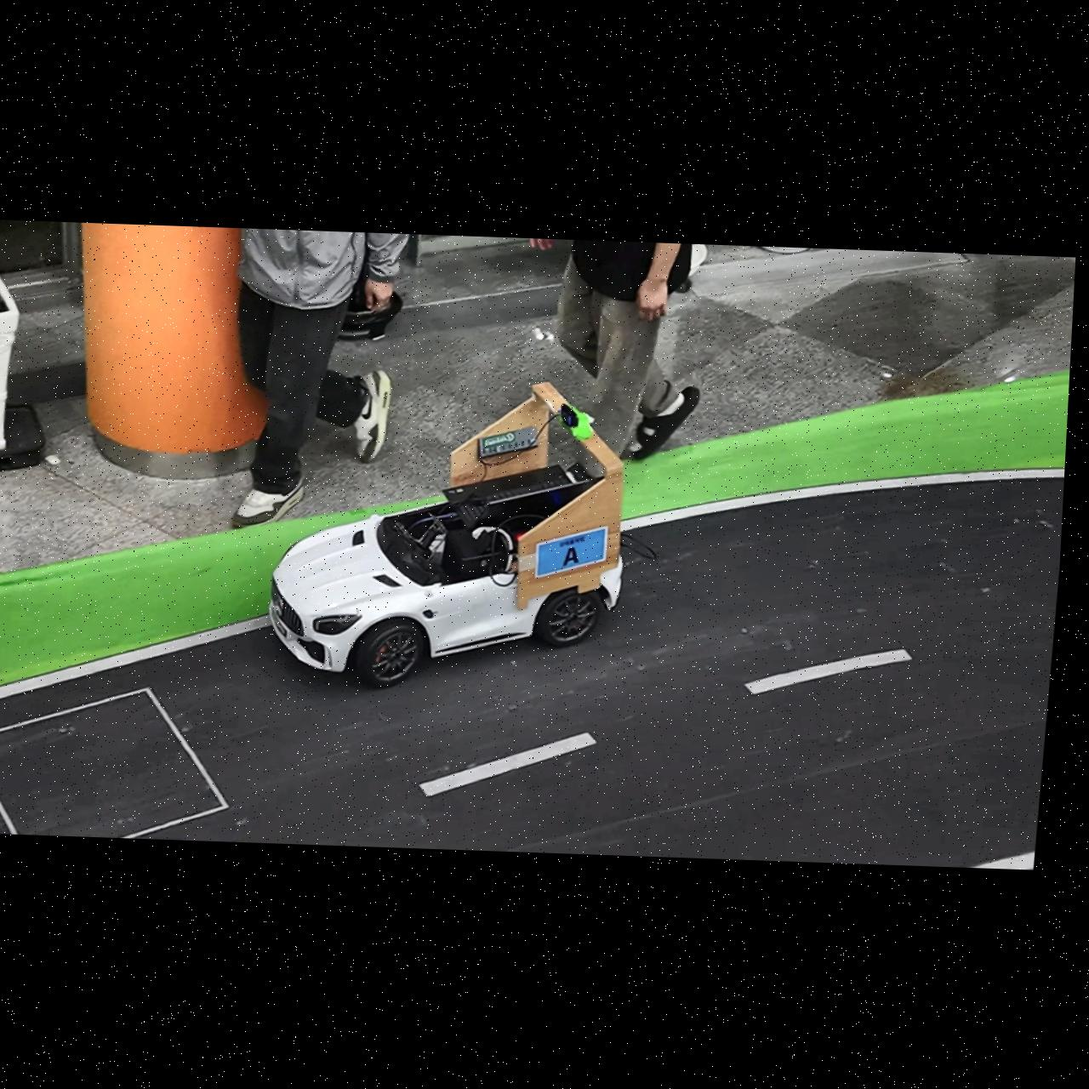broken_line: (418, 732, 596, 796), (744, 648, 912, 694)
